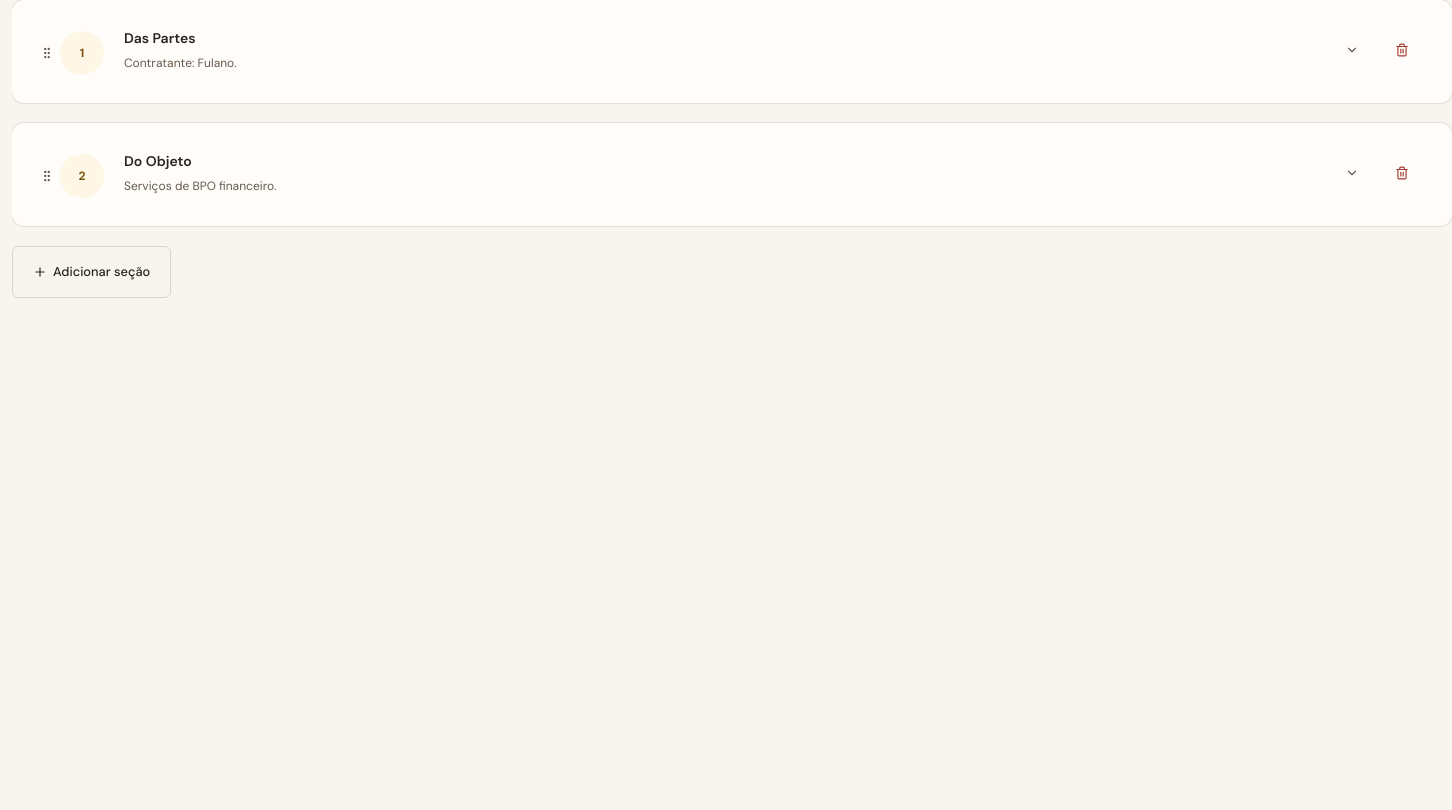
ContractSectionsEditor › expande uma seção ao clicar na seta para editar inline
The image size is (1452, 810).
What coordinates should you click on to do the following:
click the button named "editar seção" in the row of "Contratante: Fulano."
I would click on:
 (1352, 50)
Its box is left=1330, top=28, right=1374, bottom=72.
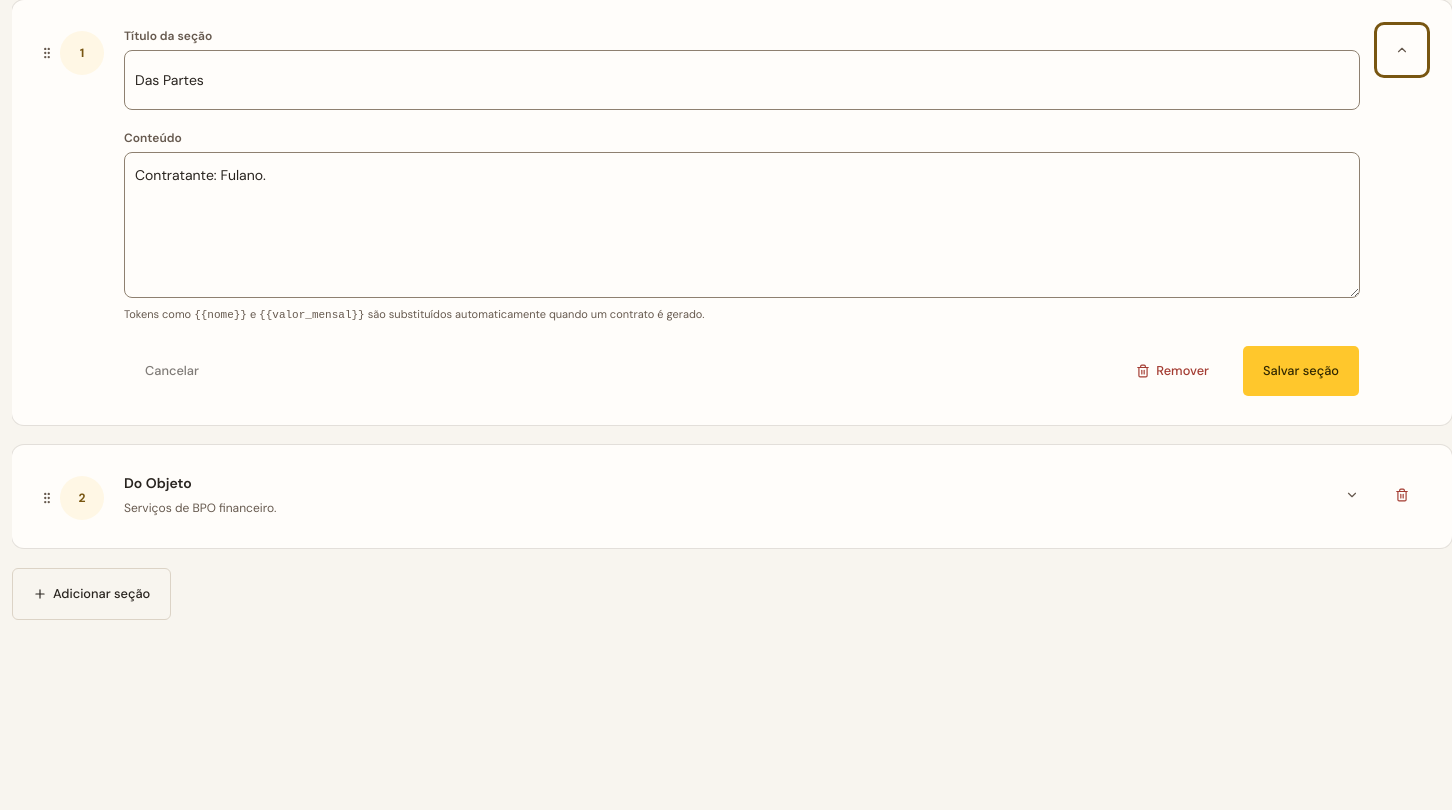
expect the form with test id "section-editor-0" is shown: met, box left=124, top=28, right=1360, bottom=397
